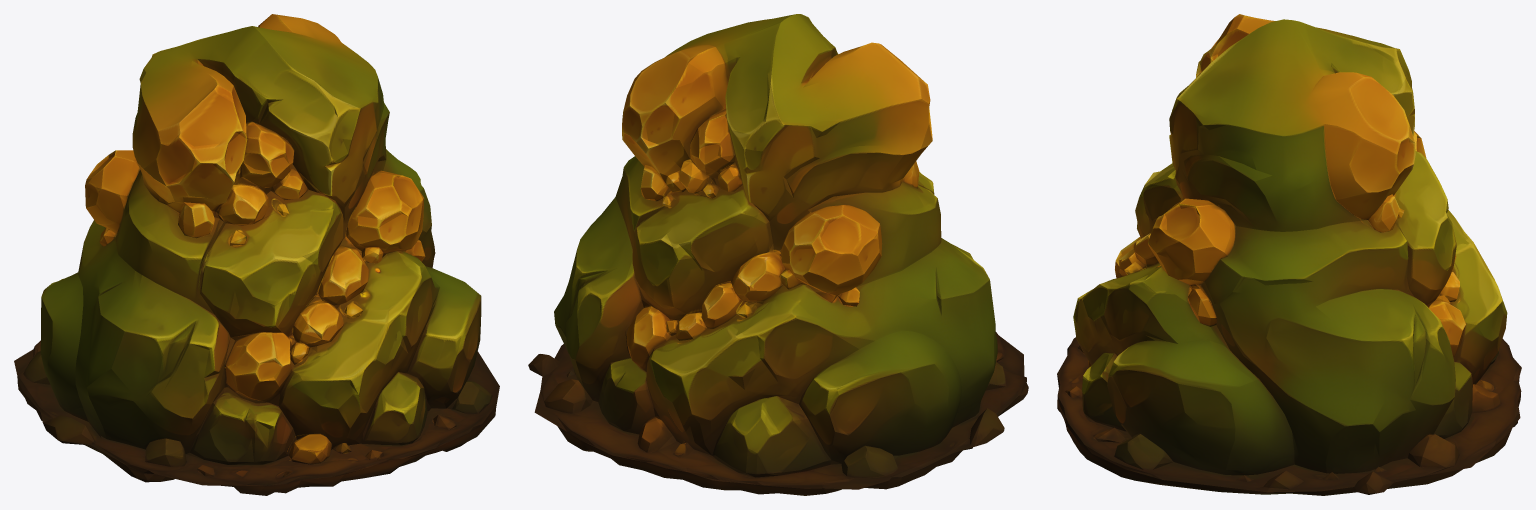
File: SM_Ore35.fbx
The picture shows the model from 3 angles, left to right: view 1: azimuth 30°, elevation 25°; view 2: azimuth 150°, elevation 25°; view 3: azimuth 270°, elevation 25°; orthographic projection. The views are drawn at different scales.
Parts seen in each view (by area): view 1: Ore35; view 2: Ore35; view 3: Ore35.
Boxes of the visible parts, x1,y1,x2,y2 form: Ore35: (14,14,499,495); Ore35: (528,14,1028,495); Ore35: (1057,14,1521,495).
Bounding box in the file's own units: 122 × 104 × 115.
1 material, 1 textured.
